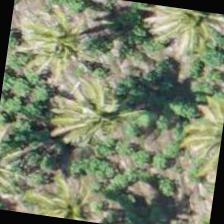Kelapa_Sawit: (39, 67, 141, 169), (8, 0, 111, 92), (41, 0, 138, 55), (146, 5, 223, 67)
